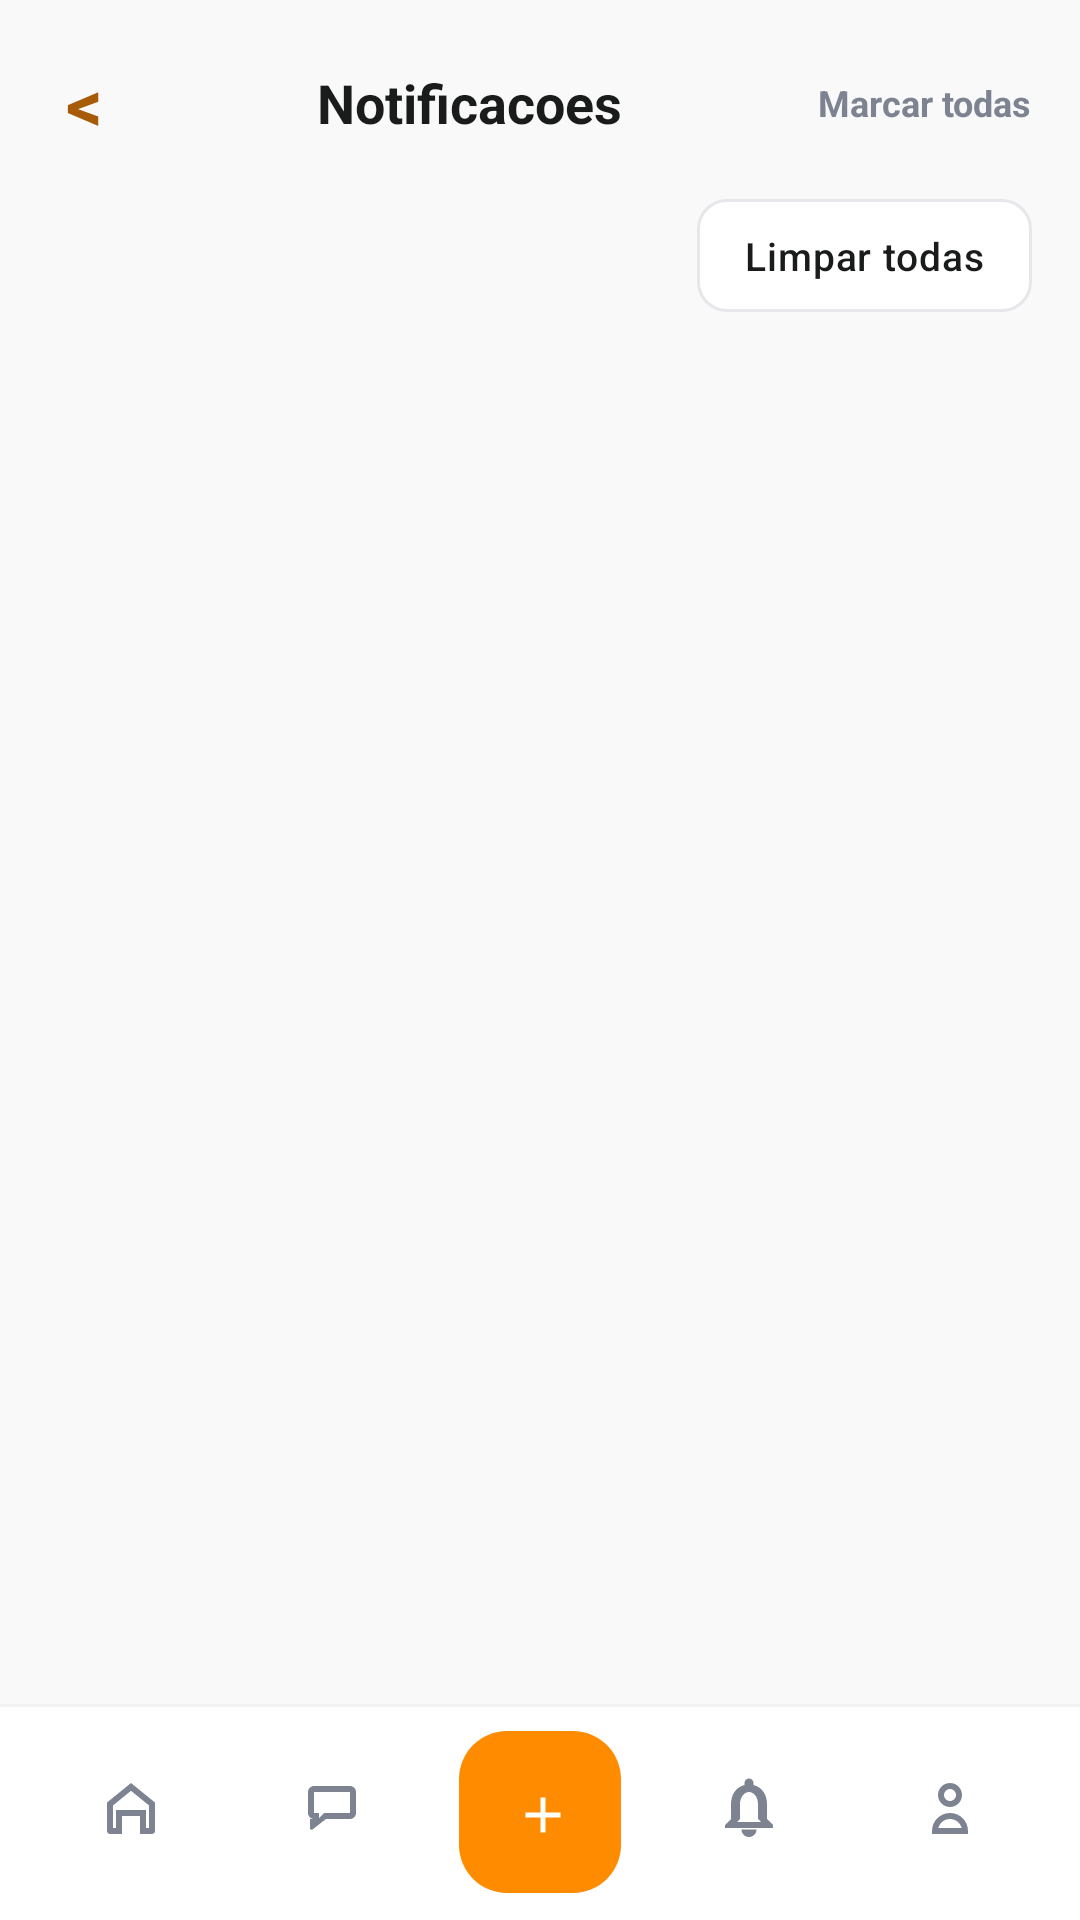

Screen size 1080×1920. Icon name, then its center in pixels as point (x, y):
Abrir conversas: point (332, 1808)
Abrir feed: point (131, 1808)
Abrir notificacoes: point (749, 1807)
Abrir perfil: point (950, 1808)
Criar Post: point (540, 1812)
